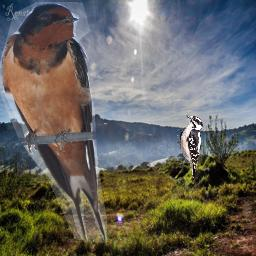Swallow: (0, 2, 107, 243)
Woodpecker: (177, 114, 203, 181)
